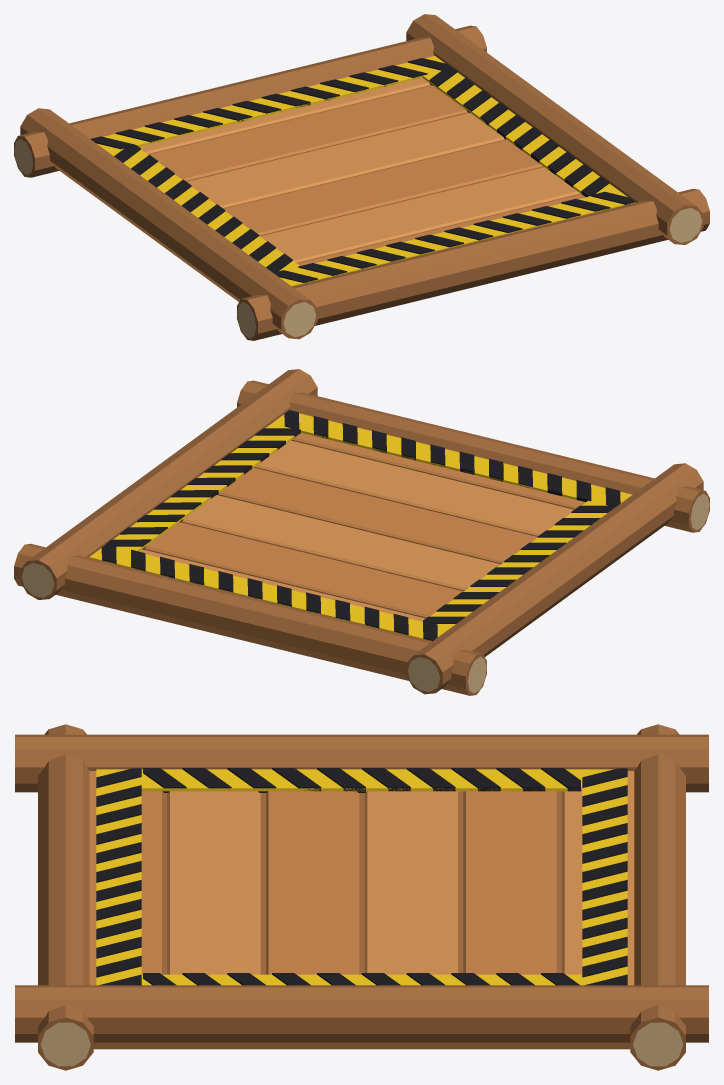
File: sell_pad.glb
The picture shows the model from 3 angles, top to bottom: view 1: azimuth 30°, elevation 25°; view 2: azimuth 150°, elevation 25°; view 3: azimuth 270°, elevation 25°; orthographic projection. The views are drawn at different scales.
Parts seen in each view (by area): view 1: Wood__AA7040, WoodPlanks__DE9654, WoodPlanks__CE884A, SmoothPlastic__1E1E22, SmoothPlastic__FACE1E, Wood__DEBC8C; view 2: Wood__AA7040, WoodPlanks__CE884A, WoodPlanks__DE9654, SmoothPlastic__1E1E22, SmoothPlastic__FACE1E, Wood__DEBC8C; view 3: Wood__AA7040, WoodPlanks__DE9654, WoodPlanks__CE884A, SmoothPlastic__1E1E22, SmoothPlastic__FACE1E, Wood__DEBC8C.
Boxes of the visible parts, x1,y1,x2,y2 form: Wood__AA7040: (14, 14, 709, 340); WoodPlanks__DE9654: (103, 56, 580, 263); WoodPlanks__CE884A: (149, 85, 585, 265); SmoothPlastic__1E1E22: (90, 58, 634, 283); SmoothPlastic__FACE1E: (97, 56, 634, 286); Wood__DEBC8C: (14, 138, 702, 338); Wood__AA7040: (14, 369, 709, 695); WoodPlanks__CE884A: (143, 413, 632, 618); WoodPlanks__DE9654: (139, 440, 573, 621); SmoothPlastic__1E1E22: (101, 410, 620, 640); SmoothPlastic__FACE1E: (89, 413, 632, 641); Wood__DEBC8C: (21, 493, 709, 693); Wood__AA7040: (15, 724, 708, 1070); WoodPlanks__DE9654: (167, 771, 634, 985); WoodPlanks__CE884A: (89, 771, 556, 985); SmoothPlastic__1E1E22: (96, 768, 627, 985); SmoothPlastic__FACE1E: (96, 769, 627, 985); Wood__DEBC8C: (40, 1022, 683, 1066).
Bounding box in the file's own units: 13.04 × 1.28 × 13.04.
